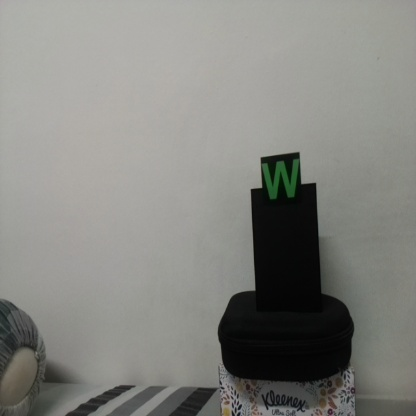id_12: (261, 156, 302, 209)
